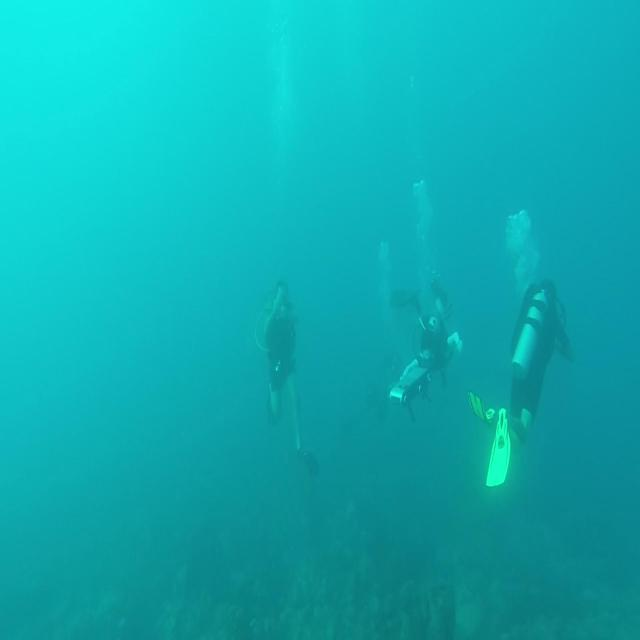human: (468, 276, 574, 487), (254, 278, 319, 476), (388, 274, 462, 422)
